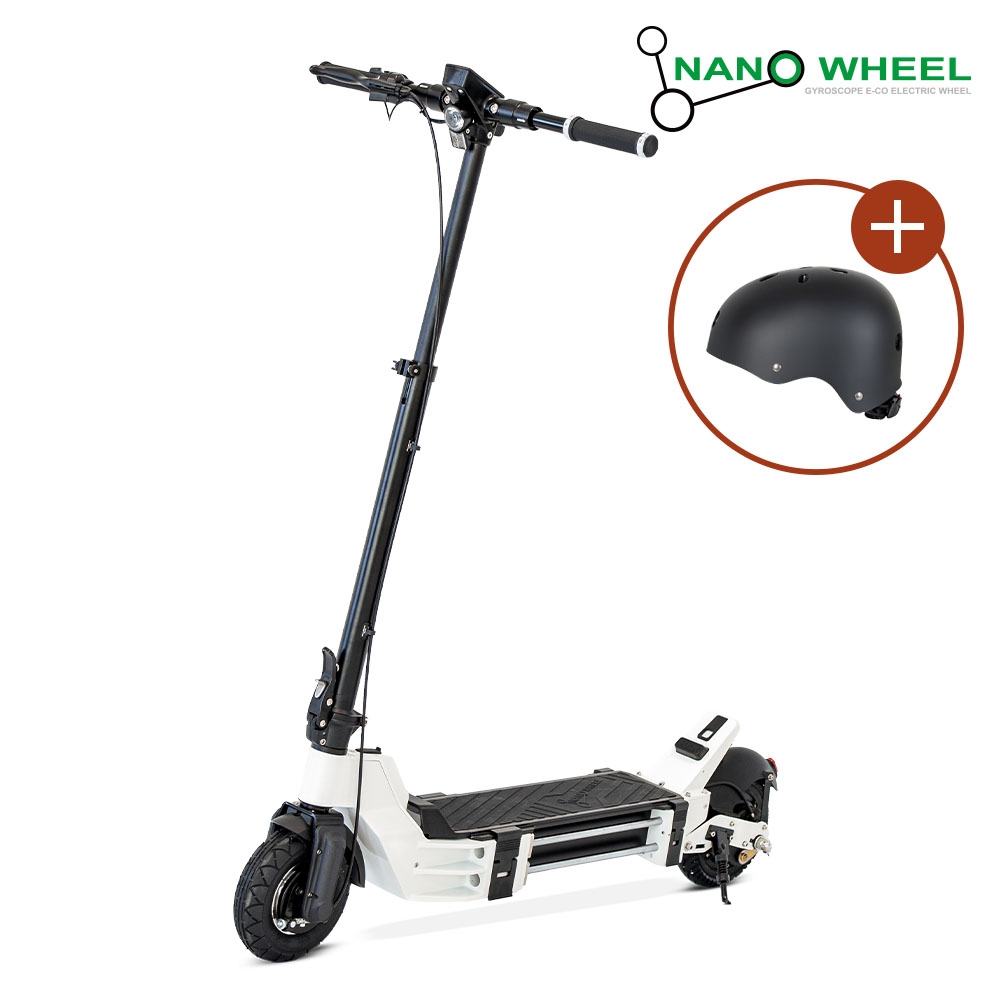kick_body: (402, 768, 685, 898)
kick_handler: (304, 53, 654, 180)
kick_neck: (305, 154, 504, 749)
kick_wheel: (233, 793, 361, 964), (665, 714, 774, 900)
